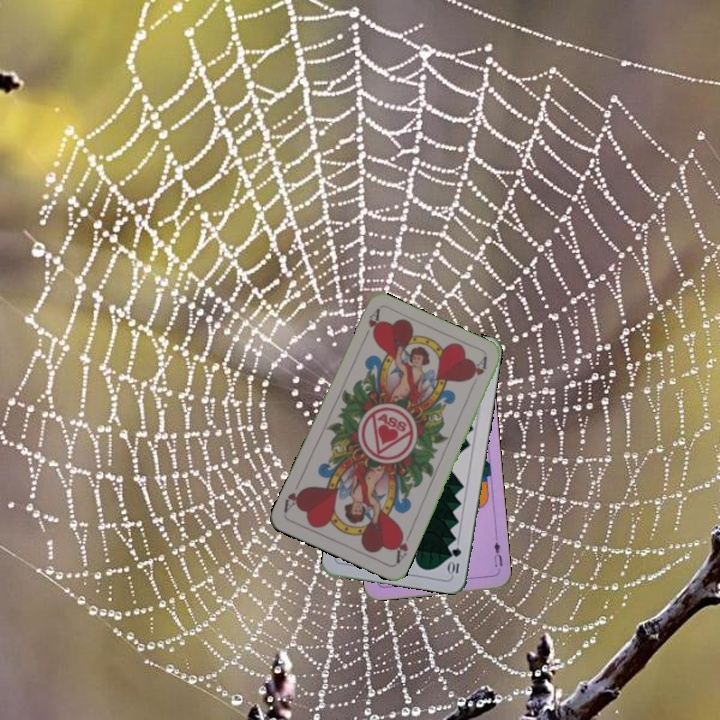EU: (490, 533, 505, 570)
G10: (445, 544, 464, 577)
HA: (391, 527, 414, 566), (359, 306, 382, 344)
